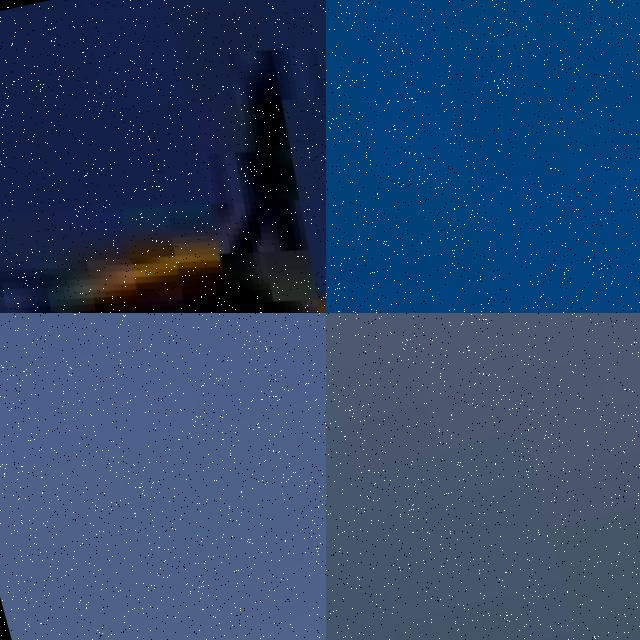0: (0, 0, 326, 313)
drone: (326, 0, 640, 313)
